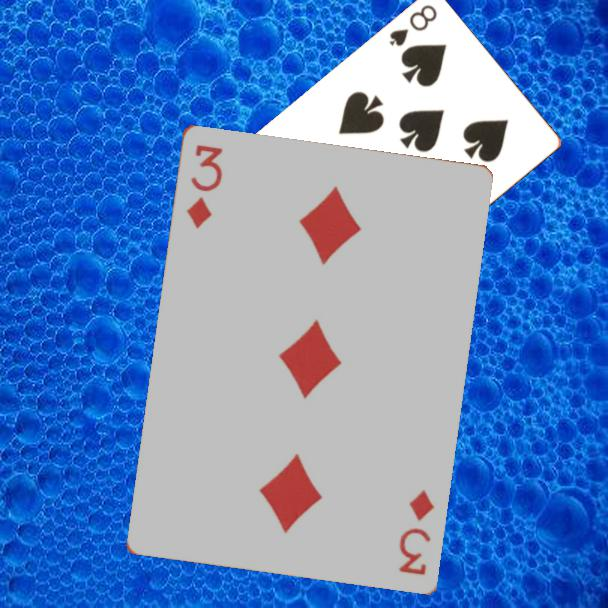d03: (182, 140, 225, 231), (395, 486, 437, 578)
s08: (385, 2, 440, 50)
